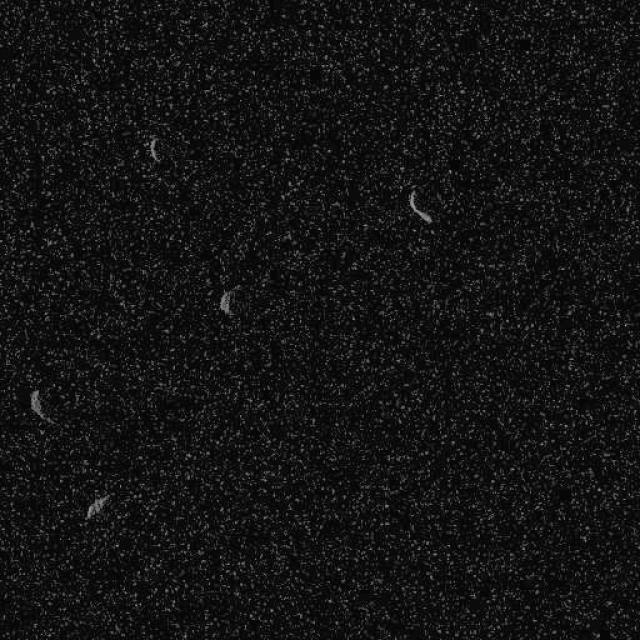D2: (27, 388, 55, 427), (406, 187, 434, 225), (84, 492, 110, 520), (146, 135, 162, 164), (218, 289, 234, 316)
